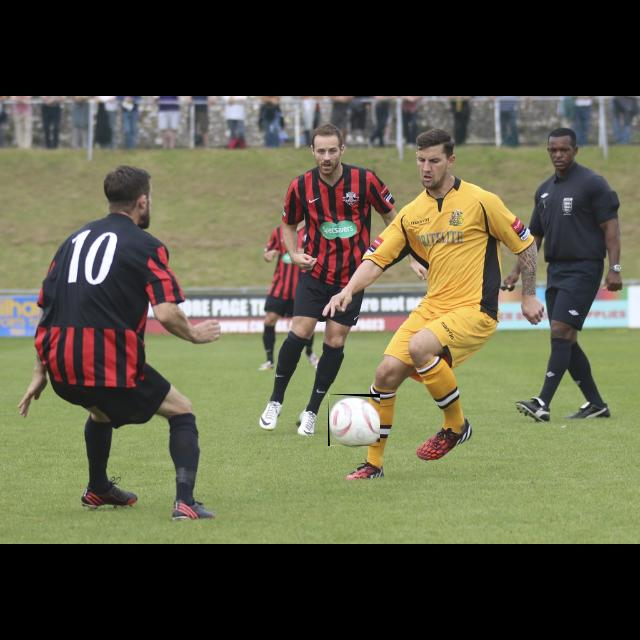Football: (328, 394, 380, 446)
